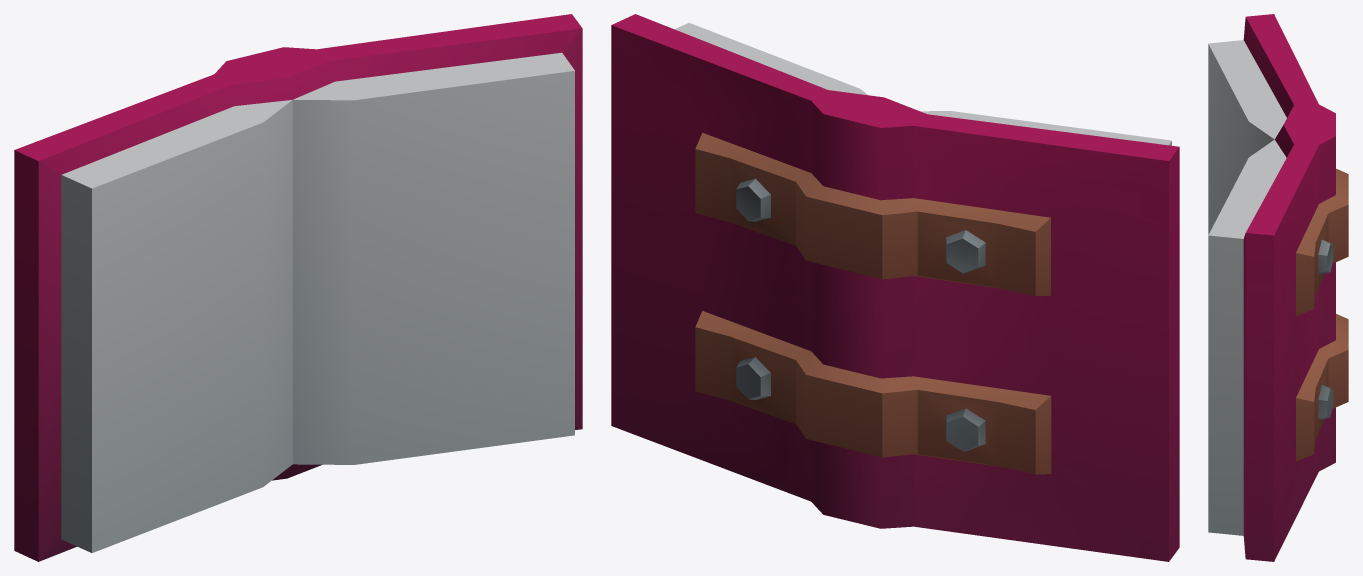
File: gear-spellbook-open.glb
3 renders of one model, left to right at view 1: azimuth 30°, elevation 25°; view 2: azimuth 150°, elevation 25°; view 3: azimuth 270°, elevation 25°, orthographic. The views are drawn at different scales.
Parts seen in each view (by area): view 1: spellbook_open; view 2: spellbook_open; view 3: spellbook_open.
Boxes of the visible parts, <box> form: spellbook_open: <box>14,14,582,561</box>; spellbook_open: <box>611,14,1179,561</box>; spellbook_open: <box>1208,14,1348,561</box>.
Size of the model in its own units: 0.8282 by 0.5688 by 0.2219.
